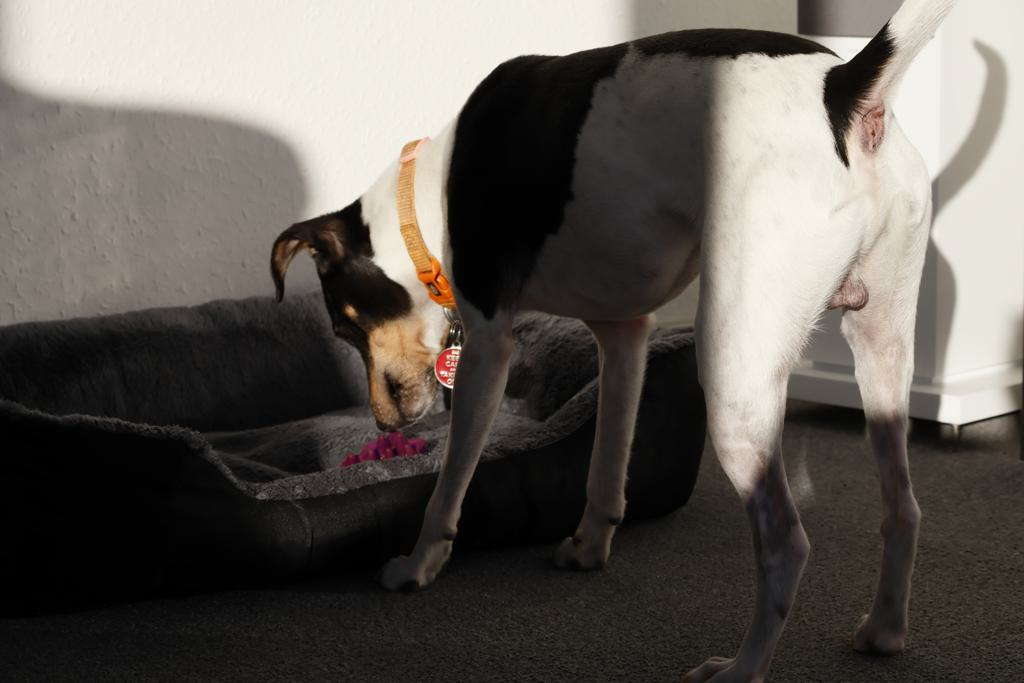Dog: (263, 0, 969, 683)
